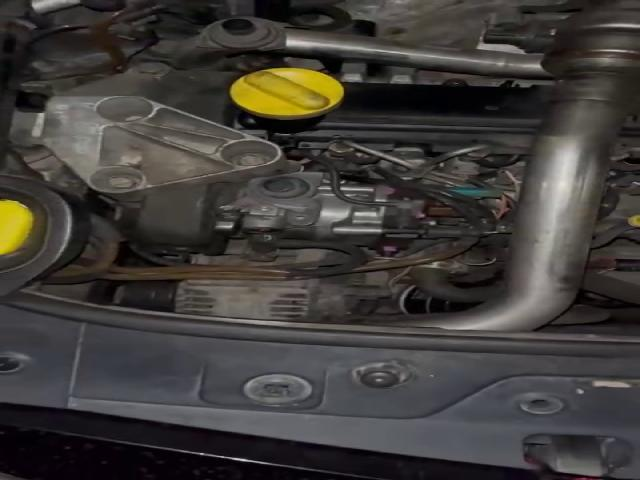alternator: (174, 274, 389, 322)
high_pressure_pump: (242, 183, 455, 257)
